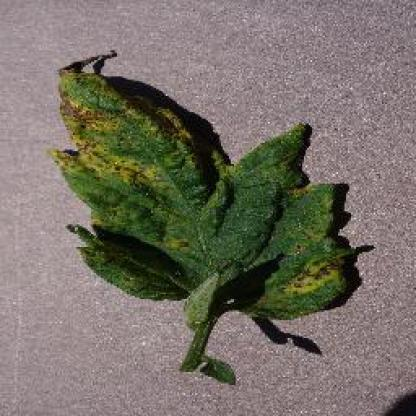bad leaf: (57, 56, 354, 365)
